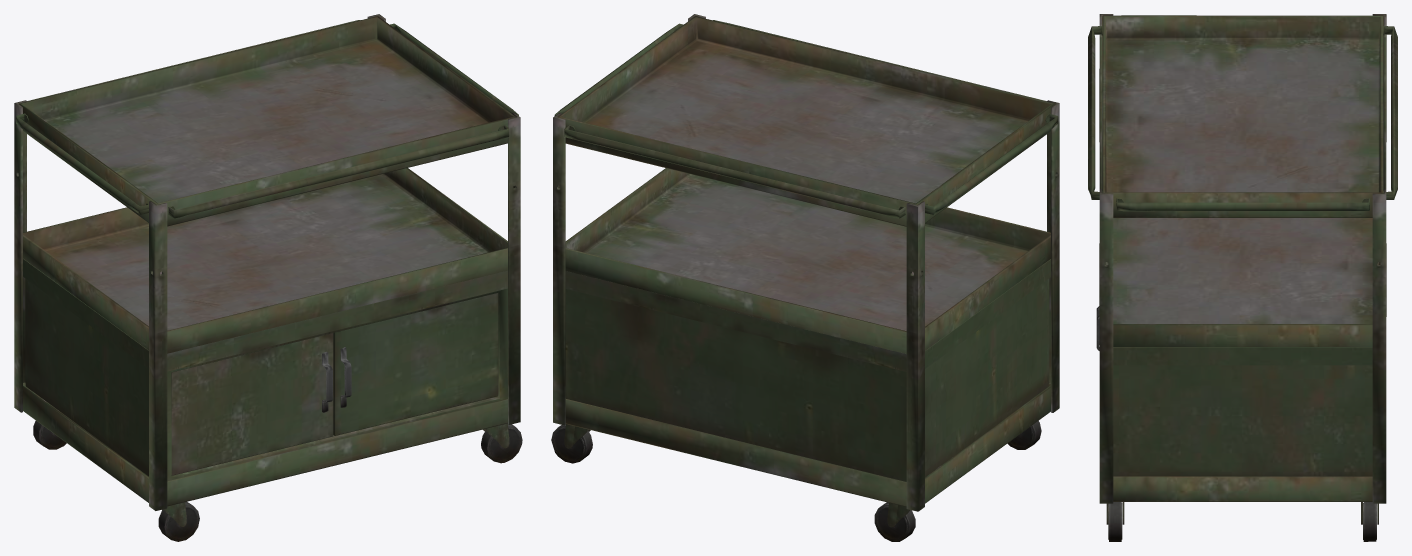
File: industrial_storage_cart.glb
3 views of the same model, side by side, from view 1: azimuth 30°, elevation 25°; view 2: azimuth 150°, elevation 25°; view 3: azimuth 270°, elevation 25° (orthographic).
Visible parts, largest first — view 1: industrial_storage_cart; view 2: industrial_storage_cart; view 3: industrial_storage_cart.
Boxes of the visible parts, x1,y1,x2,y2 form: industrial_storage_cart: (14,14,522,541); industrial_storage_cart: (551,14,1059,541); industrial_storage_cart: (1088,14,1397,541).
Size of the model in its own units: 1.6 by 1.38 by 1.1.
1 material, 1 textured.
